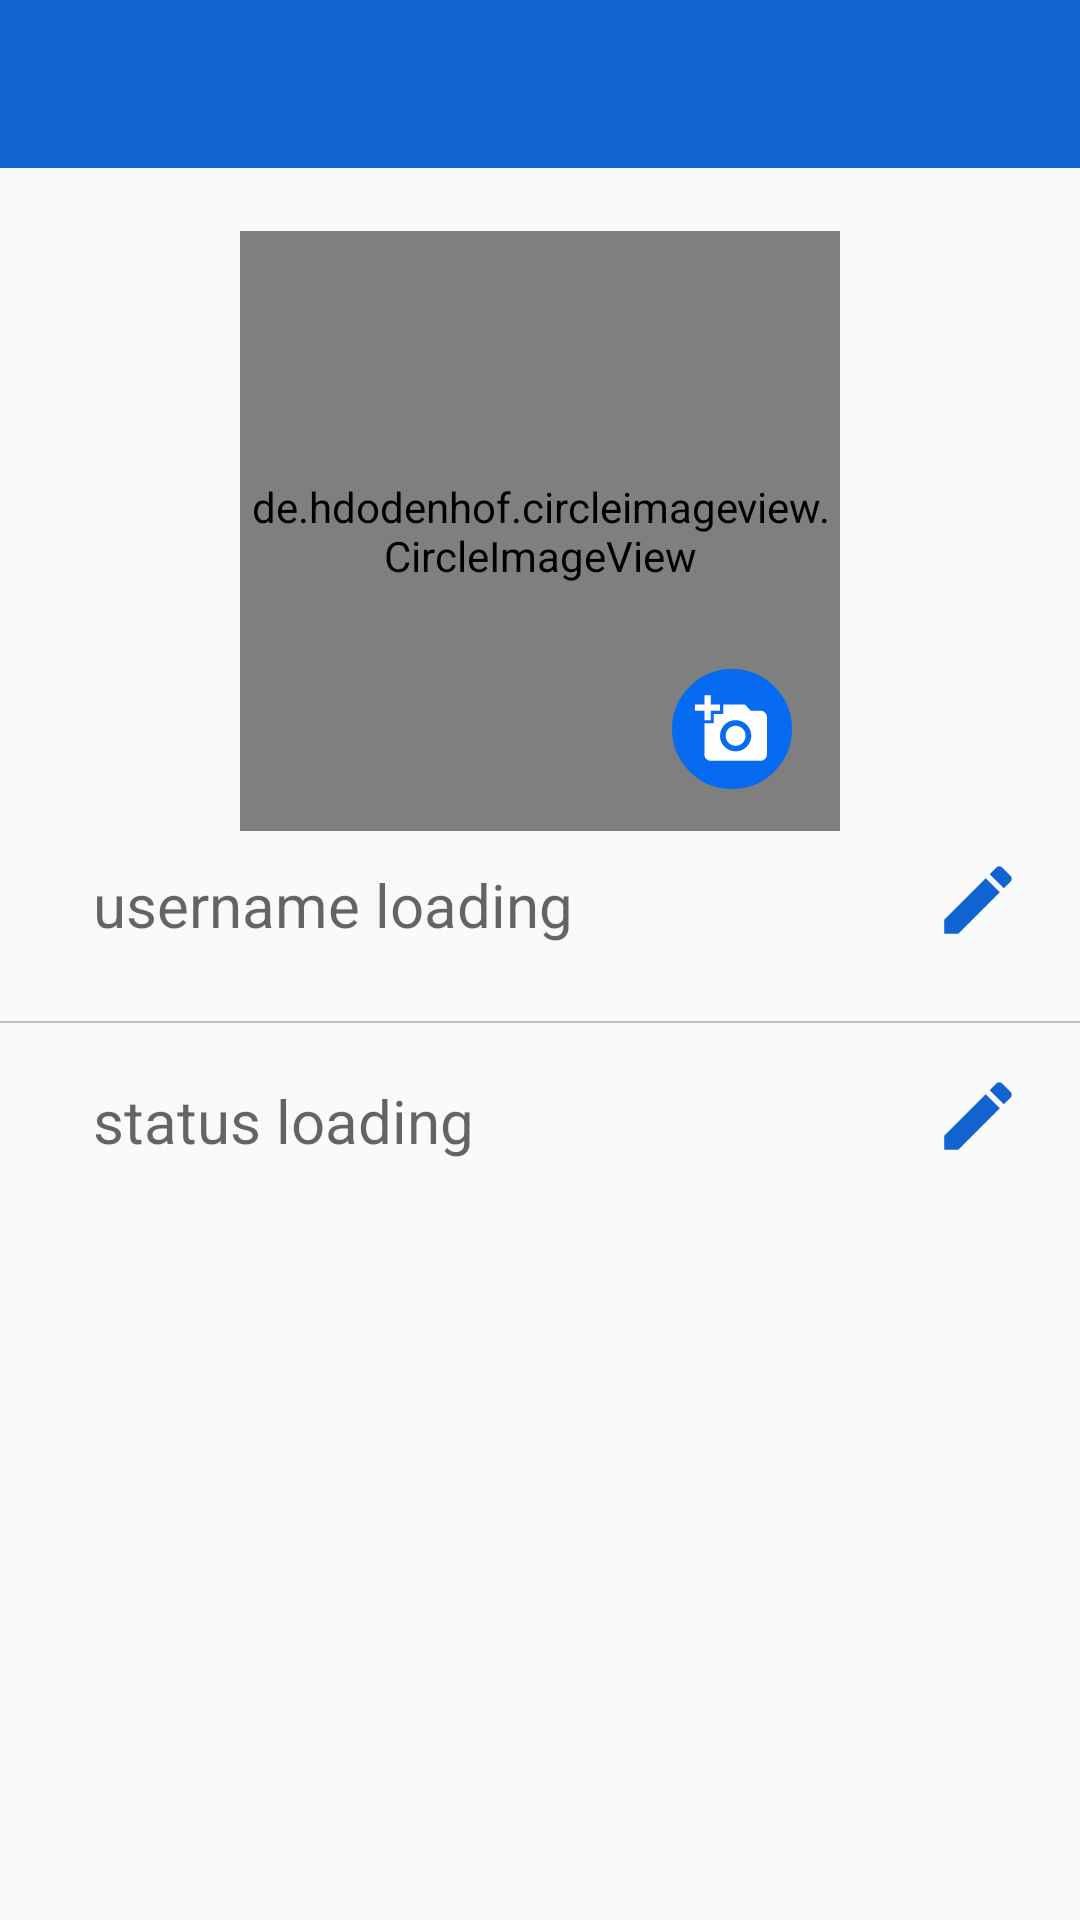

Screen size 1080x1920. Icon name, then its box in pixels as (x1, y1, x2, y2):
addimage: (672, 669, 792, 789)
edit: (944, 866, 1012, 934), (944, 1082, 1012, 1150)
